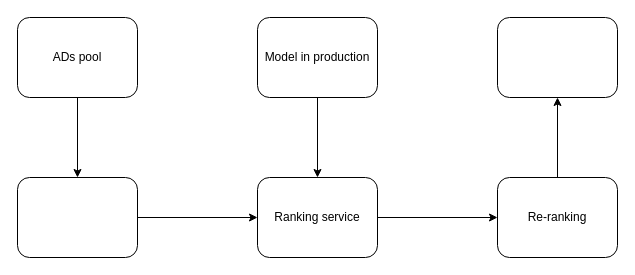
Image size: 635x275. Some labels were removed from this diagram. The shapes that lost their labels are listed below. From the top down, each one's box as (x1, y1, x2, y2) in pixels, then its label:
(496, 16, 618, 98): Ranked ADs
(16, 176, 138, 258): Candidate generation
